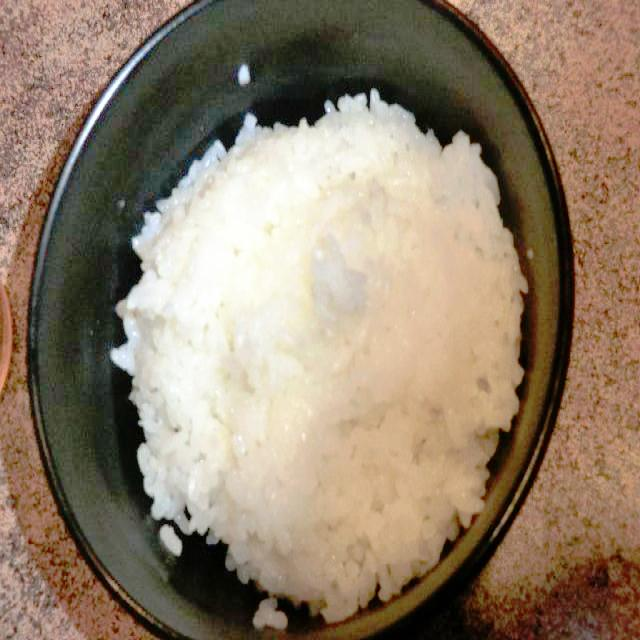rice: (108, 88, 527, 624)
